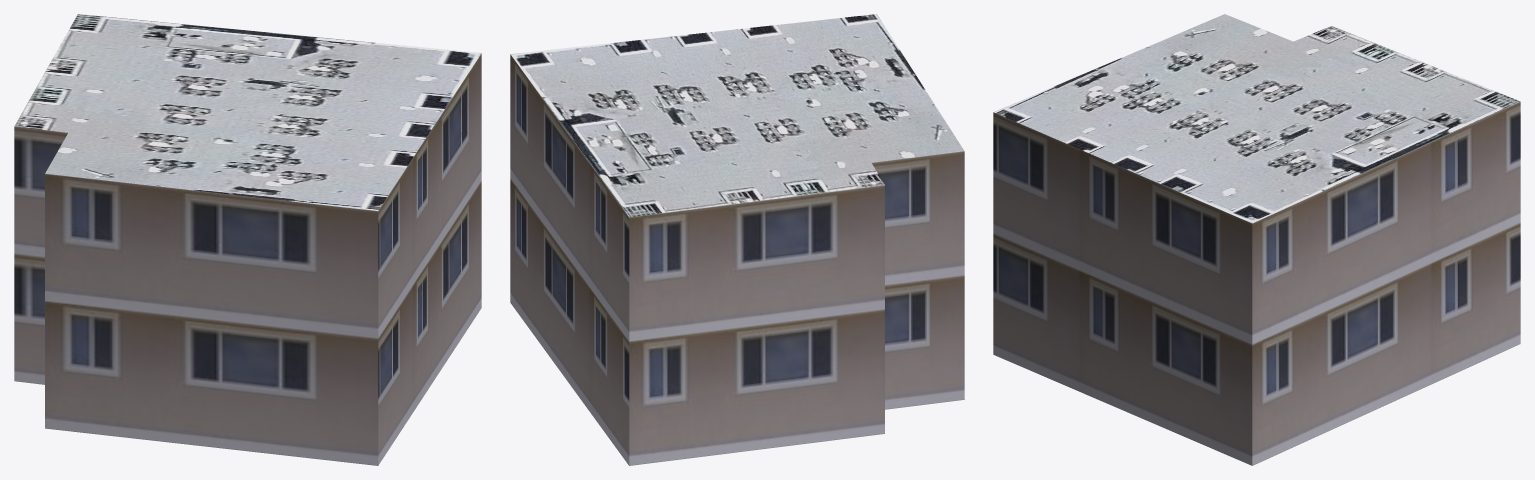
The model's file is ResTex__5028.fbx.
3 views of the same model, side by side, from view 1: azimuth 30°, elevation 25°; view 2: azimuth 150°, elevation 25°; view 3: azimuth 270°, elevation 25° (orthographic). The views are drawn at different scales.
Parts seen in each view (by area): view 1: CityEngineMaterial_21_m, CityEngineMaterial_4_m; view 2: CityEngineMaterial_21_m, CityEngineMaterial_4_m; view 3: CityEngineMaterial_21_m, CityEngineMaterial_4_m.
Part boxes in pixels (x1,y1,x2,y2): CityEngineMaterial_21_m: (14,53,481,465); CityEngineMaterial_4_m: (14,14,481,210); CityEngineMaterial_21_m: (510,54,964,465); CityEngineMaterial_4_m: (510,14,964,217); CityEngineMaterial_21_m: (993,101,1520,465); CityEngineMaterial_4_m: (993,14,1520,223).
Size of the model in its own units: 11.12 by 6 by 11.83.
Materials: 2 (2 with a texture image).
